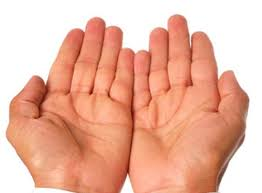palm: (43, 96, 121, 174), (143, 107, 216, 175)
